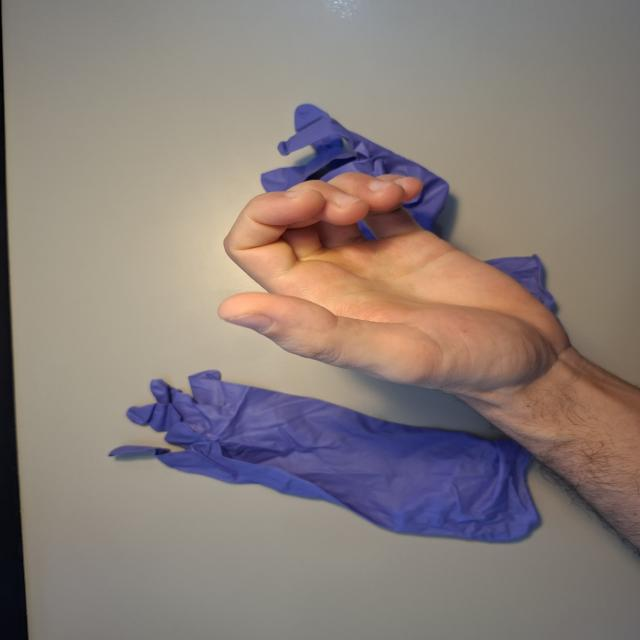glove_off: (212, 169, 585, 409)
